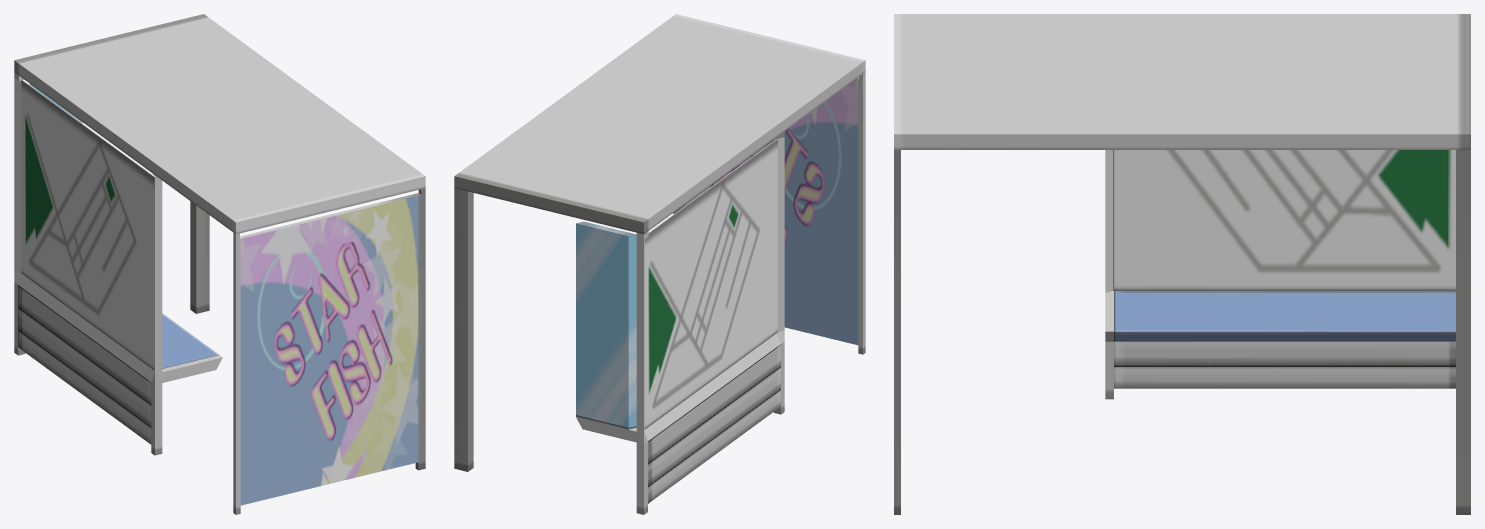
The model's file is abrisbus.fbx.
The picture shows the model from 3 angles, left to right: view 1: azimuth 30°, elevation 25°; view 2: azimuth 150°, elevation 25°; view 3: azimuth 270°, elevation 25°; orthographic projection. The views are drawn at different scales.
Parts seen in each view (by area): view 1: Cube; view 2: Cube; view 3: Cube.
Boxes of the visible parts, x1,y1,x2,y2 form: Cube: (14, 14, 425, 514); Cube: (454, 14, 865, 514); Cube: (894, 14, 1470, 514).
Size of the model in its own units: 200 by 295 by 405.
